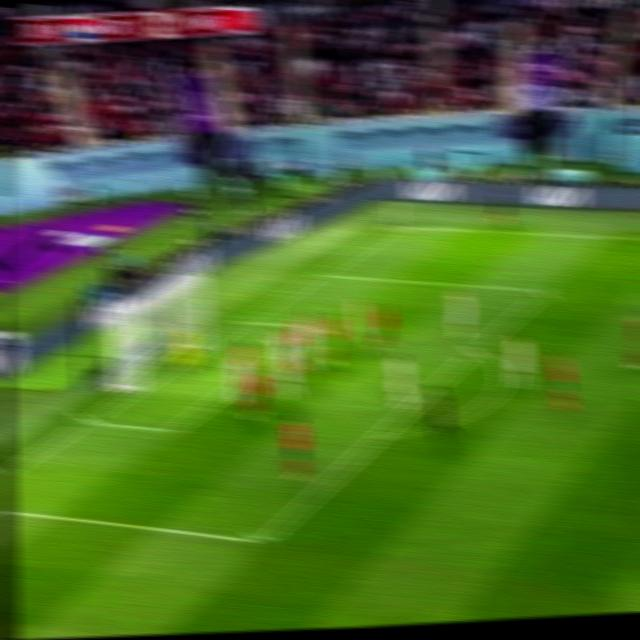bigarea_bottom_inner: (246, 527, 275, 553)
bigarea_top_inner: (530, 279, 555, 300)
bigarea_top_outter: (307, 264, 332, 282)
bottom_arc_area_intersection: (364, 423, 391, 447)
corner: (382, 218, 409, 232)
smallarea_bottom_inner: (157, 415, 187, 443)
smallarea_bottom_outter: (72, 408, 100, 433)
smallarea_top_inner: (307, 319, 330, 335)
smallarea_top_outter: (231, 310, 256, 329)
top_arc_area_intersection: (462, 340, 487, 358)
